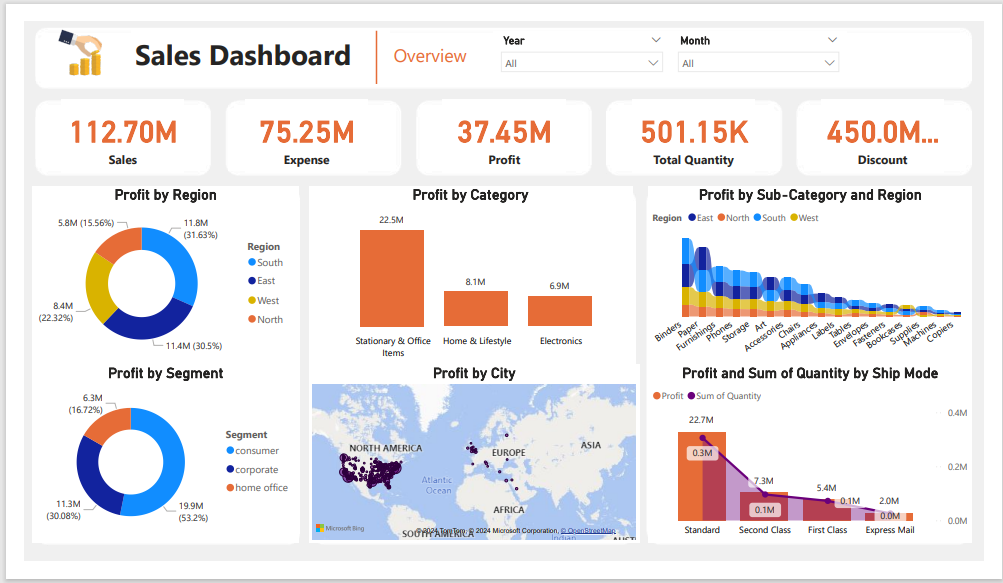

What the dashboard file says about the page in this screenshot:
{"tool":"powerbi","page":{"name":"Page 1","canvas":[1280,720],"ordinal":0},"visuals":[{"type":"textbox","box":[143.1,12.8,344.4,70.9],"z":0},{"type":"image","box":[21.3,0,110.6,83.6],"z":1000},{"type":"shape","box":[435.1,12.8,69.4,70.9],"z":2000},{"type":"textbox","box":[487.6,22.7,120.5,46.8],"z":3000},{"type":"card","fields":{"Values":["Sum(Sales Data.Sales)"]},"box":[49.6,104.9,164.4,97.8],"z":4000},{"type":"card","fields":{"Values":["Sum(Sales Data.Expense)"]},"box":[294.8,104.9,164.4,97.8],"z":5000},{"type":"card","fields":{"Values":["Sum(Sales Data.Profit)"]},"box":[558.4,104.9,164.4,97.8],"z":6000},{"type":"card","fields":{"Values":["Sum(Sales Data.Quantity)"]},"box":[810.7,104.9,164.4,97.8],"z":7000},{"type":"card","fields":{"Values":["Sum(Sales Data.Discount)"]},"box":[1063,104.9,164.4,97.8],"z":8000},{"type":"donutChart","fields":{"Category":["Sales Data.Region"],"Y":["Sum(Sales Data.Profit)"]},"box":[11.3,219.7,355.7,238.1],"z":9000},{"type":"donutChart","fields":{"Y":["Sum(Sales Data.Profit)"],"Category":["Sales Data.Segment"]},"box":[11.3,457.8,355.7,238.1],"z":10000},{"type":"columnChart","fields":{"Y":["Sum(Sales Data.Profit)"],"Category":["Sales Data.Category"]},"box":[379.8,219.7,430.9,238.1],"z":11000},{"type":"map","fields":{"Category":["Sales Data.City"],"Size":["Sum(Sales Data.Profit)"]},"box":[379.8,457.8,440.8,238.1],"z":12000},{"type":"ribbonChart","fields":{"Y":["Sum(Sales Data.Profit)"],"Series":["Sales Data.Region"],"Category":["Sales Data.Sub-Category"]},"box":[833.4,219.7,430.9,238.1],"z":13000},{"type":"lineStackedColumnComboChart","fields":{"Category":["Sales Data.Ship Mode"],"Y":["Sum(Sales Data.Profit)"],"Y2":["Sum(Sales Data.Quantity)"]},"box":[833.4,457.8,430.9,238.1],"z":14000},{"type":"slicer","fields":{"Values":["calendar.Year"]},"box":[626.5,12.8,235.3,60.9],"z":15000},{"type":"slicer","fields":{"Values":["calendar.Date.Variation.Date Hierarchy.Month"]},"box":[861.7,12.8,235.3,60.9],"z":16000}]}

Visuals, with their boxes on the page's 1280x720 design canvas (x1, y1, x2, y2). These are canvas units, not pixel positions in the 1003x583 screenshot, which may show the page scaled, cropped or inside an application window:
textbox: x1=143 y1=13 x2=488 y2=84
image: x1=21 y1=0 x2=132 y2=84
shape: x1=435 y1=13 x2=504 y2=84
textbox: x1=488 y1=23 x2=608 y2=70
card - Sum(Sales Data.Sales): x1=50 y1=105 x2=214 y2=203
card - Sum(Sales Data.Expense): x1=295 y1=105 x2=459 y2=203
card - Sum(Sales Data.Profit): x1=558 y1=105 x2=723 y2=203
card - Sum(Sales Data.Quantity): x1=811 y1=105 x2=975 y2=203
card - Sum(Sales Data.Discount): x1=1063 y1=105 x2=1227 y2=203
donutChart - Sales Data.Region x Sum(Sales Data.Profit): x1=11 y1=220 x2=367 y2=458
donutChart - Sum(Sales Data.Profit) x Sales Data.Segment: x1=11 y1=458 x2=367 y2=696
columnChart - Sum(Sales Data.Profit) x Sales Data.Category: x1=380 y1=220 x2=811 y2=458
map - Sales Data.City x Sum(Sales Data.Profit): x1=380 y1=458 x2=821 y2=696
ribbonChart - Sum(Sales Data.Profit) x Sales Data.Region: x1=833 y1=220 x2=1264 y2=458
lineStackedColumnComboChart - Sales Data.Ship Mode x Sum(Sales Data.Profit): x1=833 y1=458 x2=1264 y2=696
slicer - calendar.Year: x1=626 y1=13 x2=862 y2=74
slicer - calendar.Date.Variation.Date Hierarchy.Month: x1=862 y1=13 x2=1097 y2=74
